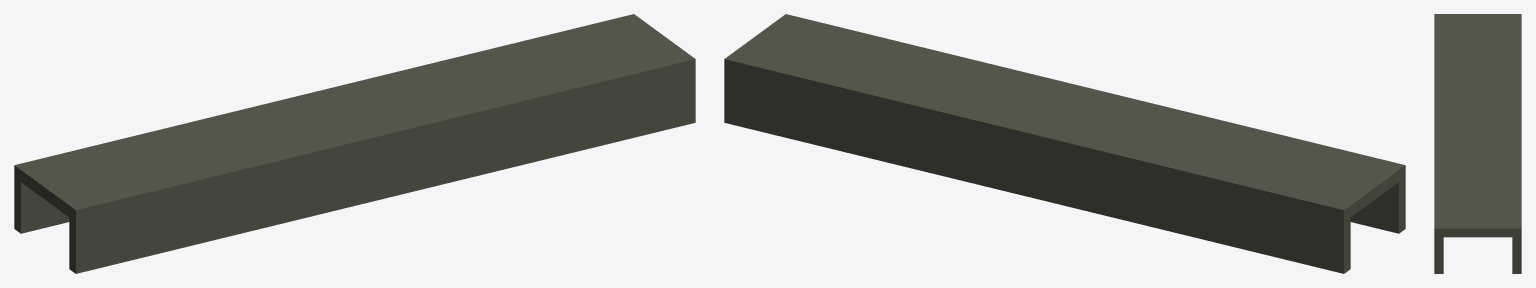
The model's file is SK_Staple.fbx.
3 views of the same model, side by side, from view 1: azimuth 30°, elevation 25°; view 2: azimuth 150°, elevation 25°; view 3: azimuth 270°, elevation 25° (orthographic). The views are drawn at different scales.
Parts seen in each view (by area): view 1: grapadora.004; view 2: grapadora.004; view 3: grapadora.004.
Boxes of the visible parts, <box> form: grapadora.004: <box>14,14,695,273</box>; grapadora.004: <box>724,14,1405,273</box>; grapadora.004: <box>1434,14,1521,273</box>.
Bounding box in the file's own units: 26.83 × 2.64 × 4.62.
